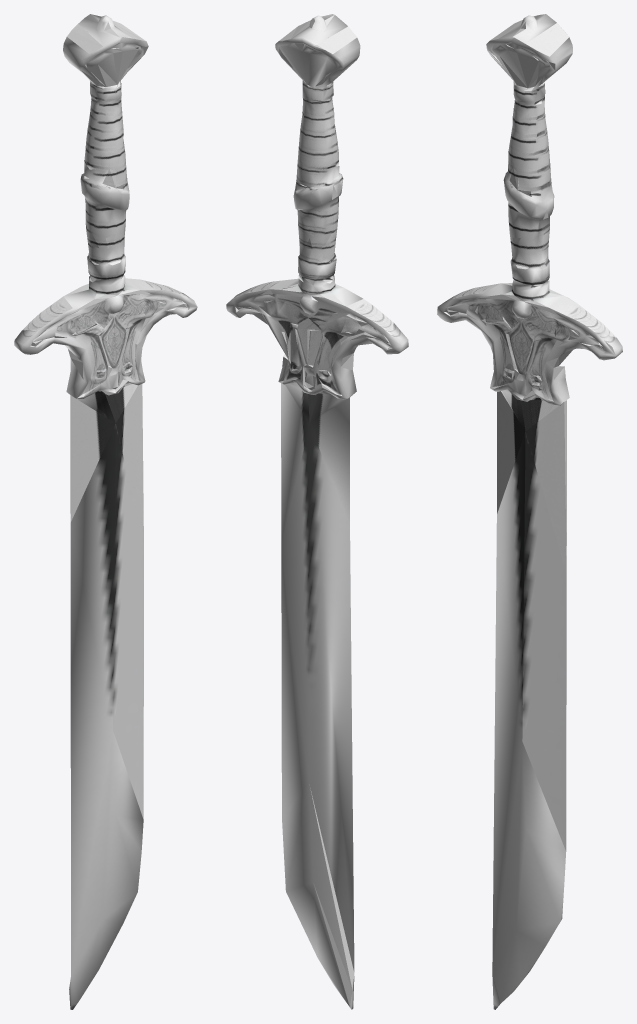
Rendered from Epee.fbx.
3 views of the same model, side by side, from view 1: azimuth 30°, elevation 25°; view 2: azimuth 150°, elevation 25°; view 3: azimuth 330°, elevation 25° (orthographic).
Parts seen in each view (by area): view 1: Mesh_0; view 2: Mesh_0; view 3: Mesh_0.
Boxes of the visible parts, x1=… form: Mesh_0: x1=14, y1=14, x2=197, y2=1009; Mesh_0: x1=226, y1=14, x2=408, y2=1009; Mesh_0: x1=437, y1=14, x2=622, y2=1009.
Size of the model in its own units: 35.48 by 190 by 11.49.
Materials: 1 (1 with a texture image).
